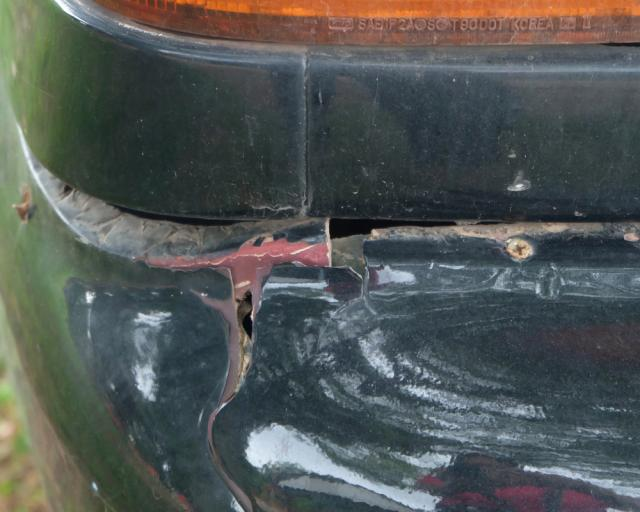crack: (315, 215, 510, 359), (203, 262, 275, 512)
